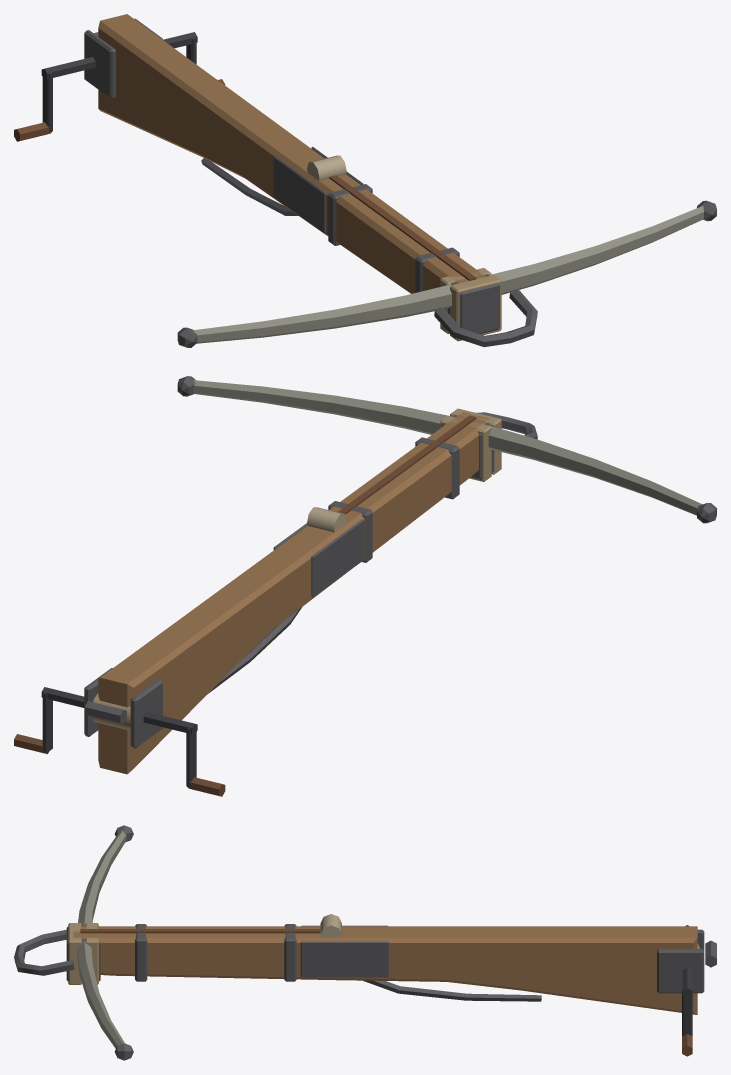
Rendered from arbalest.glb.
The picture shows the model from 3 angles, top to bottom: view 1: azimuth 30°, elevation 25°; view 2: azimuth 150°, elevation 25°; view 3: azimuth 270°, elevation 25°; orthographic projection. The views are drawn at different scales.
Visible parts, largest first — view 1: arbalest; view 2: arbalest; view 3: arbalest.
Part boxes in pixels (x1,y1,x2,y2): arbalest: (14,14,716,347); arbalest: (14,376,716,796); arbalest: (14,825,716,1060).
Size of the model in its own units: 0.7847 by 0.153 by 1.04.
